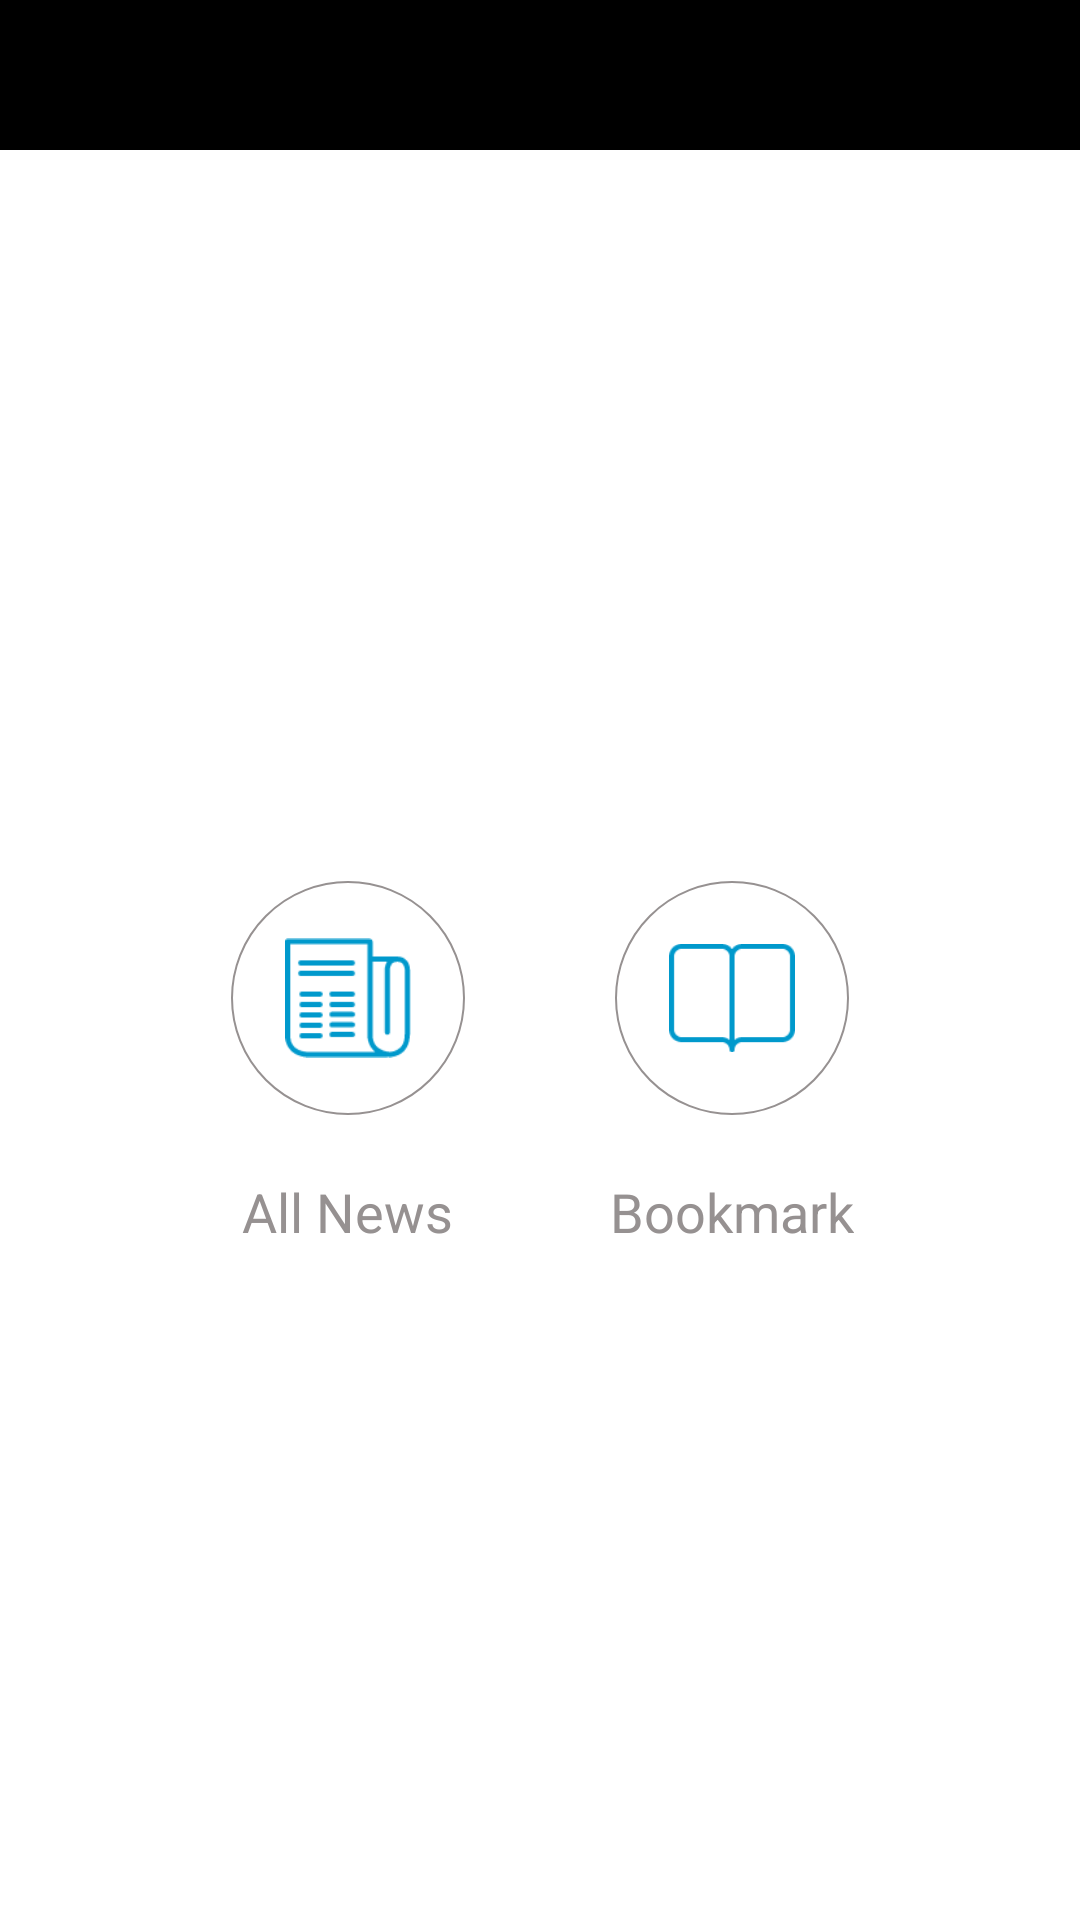

Where to tap for icons on this 1080×1920 app screen, as (x=x, y=y):
newblue: (x=348, y=998)
